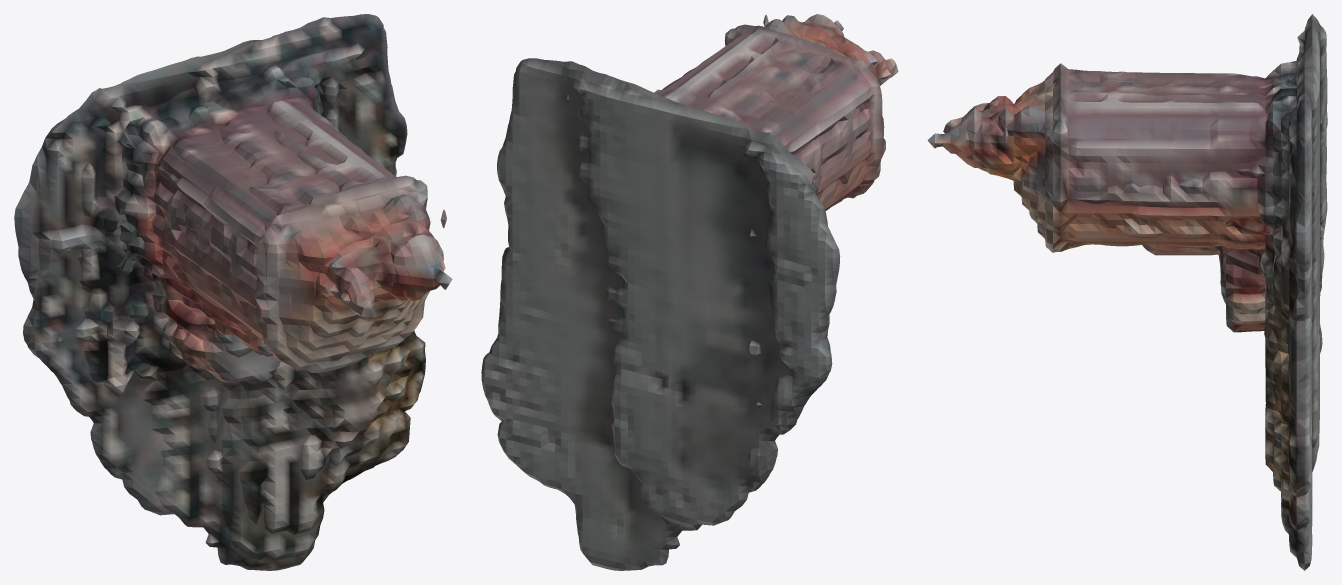
Rendered from tower.glb.
The picture shows the model from 3 angles, left to right: view 1: azimuth 30°, elevation 25°; view 2: azimuth 150°, elevation 25°; view 3: azimuth 270°, elevation 25°; orthographic projection. The views are drawn at different scales.
Visible parts, largest first — view 1: geometry_0; view 2: geometry_0; view 3: geometry_0.
Boxes of the visible parts, x1,y1,x2,y2 form: geometry_0: (14, 14, 452, 570); geometry_0: (481, 14, 898, 570); geometry_0: (927, 14, 1327, 570).
Bounding box in the file's own units: 0.7219 × 0.9387 × 0.6973.
